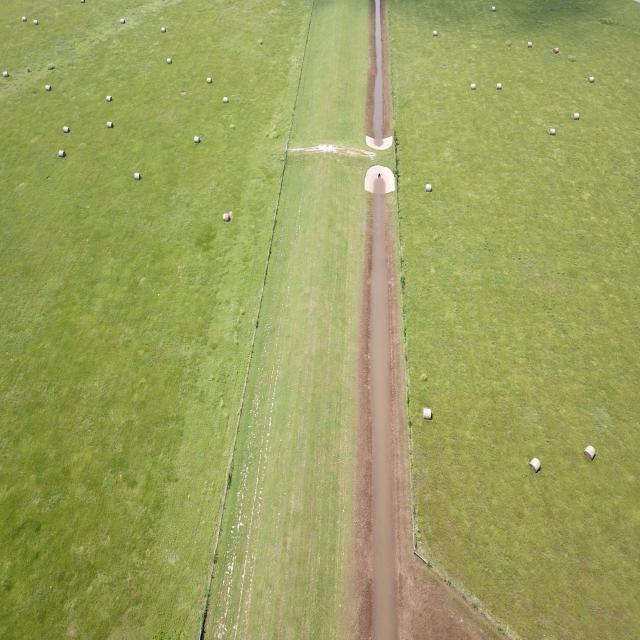fire: (371, 186, 398, 640), (374, 0, 383, 138)
